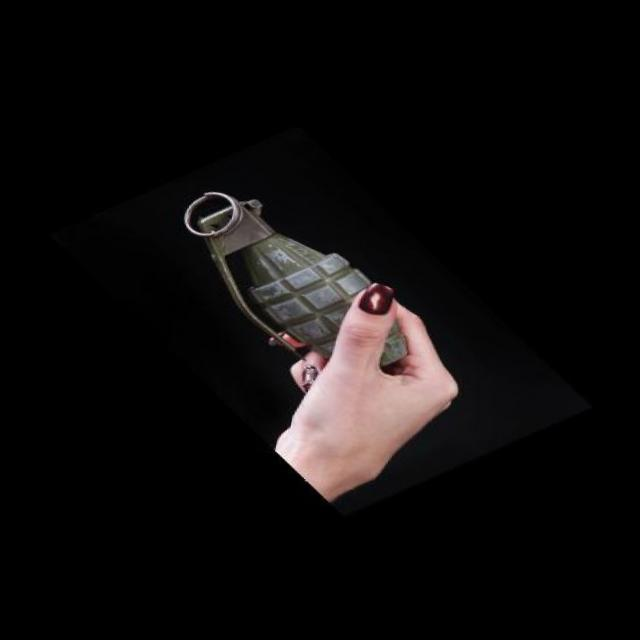grenade: (162, 172, 446, 380)
